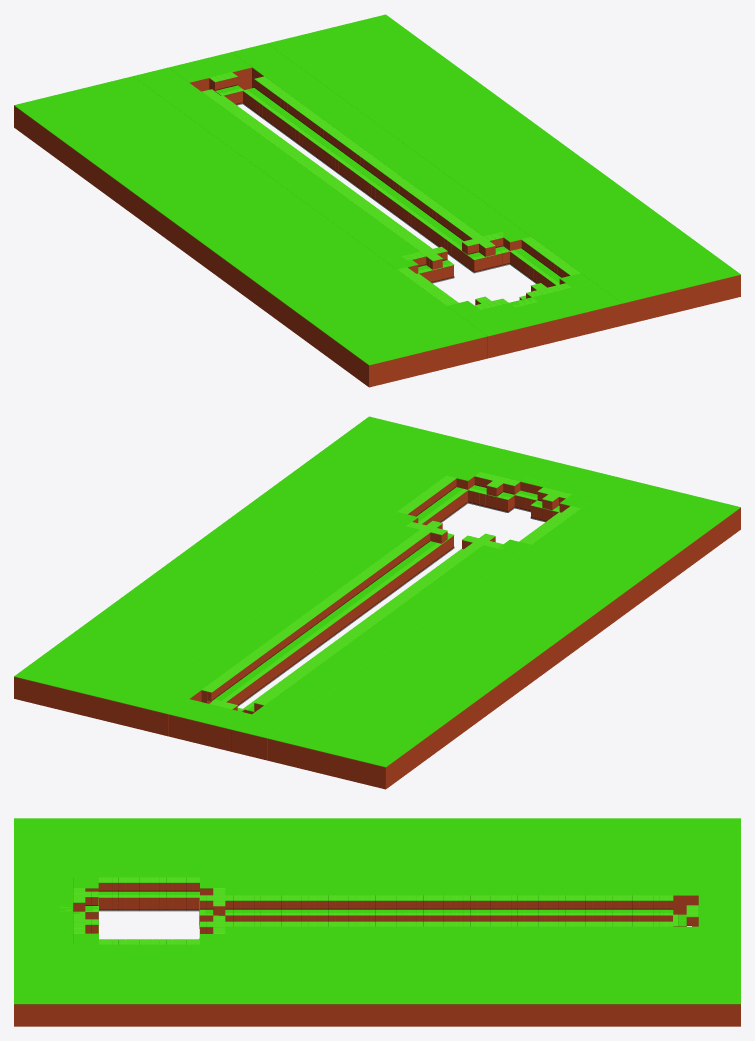
The model's file is Walls.fbx.
3 renders of one model, top to bottom at view 1: azimuth 30°, elevation 25°; view 2: azimuth 150°, elevation 25°; view 3: azimuth 270°, elevation 25°, orthographic. The views are drawn at different scales.
Parts seen in each view (by area): view 1: LandTop, LandTop.001, Land, LandTop.003, LandTop.002, LandTop.004, Land.004, Land.001, LandTop.009; view 2: LandTop, LandTop.001, Land, LandTop.003, LandTop.002, LandTop.004, Land.001, Land.009, LandTop.009, Land.003, Land.002; view 3: LandTop.001, LandTop, Land.001, LandTop.002, LandTop.003, LandTop.004, LandTop.009, Land.002.
Boxes of the visible parts, x1,y1,x2,y2 form: LandTop: (14,76,487,365); LandTop.001: (267,14,740,303); Land: (14,106,487,387); LandTop.003: (231,43,518,236); LandTop.002: (133,67,419,260); LandTop.004: (459,282,621,336); Land.004: (487,304,622,358); Land.001: (622,275,740,325); LandTop.009: (169,52,251,82); LandTop: (267,478,740,767); LandTop.001: (14,416,487,705); Land: (267,508,740,789); LandTop.003: (133,521,419,714); LandTop.002: (231,545,518,738); LandTop.004: (459,445,621,499); Land.001: (14,677,132,727); Land.009: (168,714,231,751); LandTop.009: (168,699,251,729); Land.003: (132,690,201,736); Land.002: (231,730,267,760); LandTop.001: (14,944,740,1004); LandTop: (14,818,740,877); Land.001: (14,1004,740,1026); LandTop.002: (225,877,740,895); LandTop.003: (225,926,740,944); LandTop.004: (14,877,73,944); LandTop.009: (698,895,740,926); Land.002: (673,895,698,914).
Size of the model in its own units: 52000 by 3000 by 86000.
